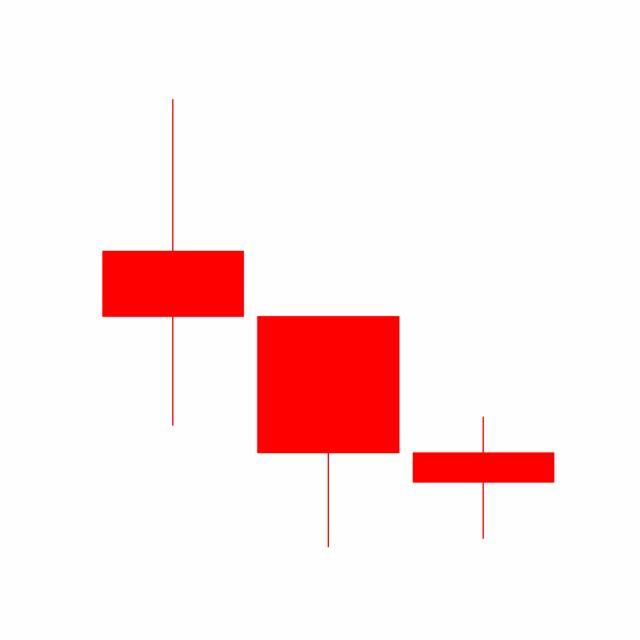Spinning Top: (406, 415, 562, 541)
